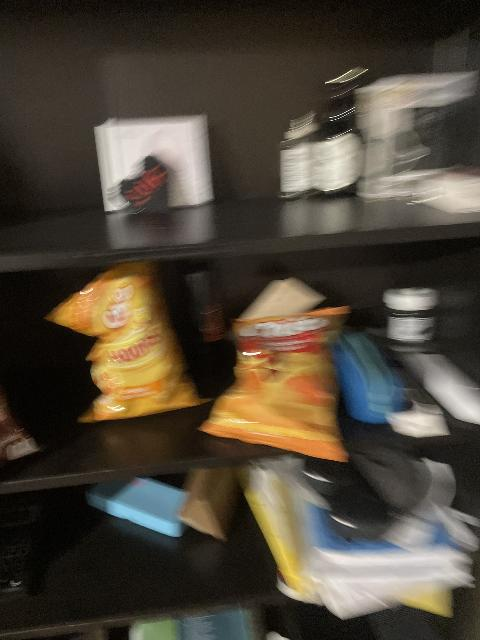Chio Cascaval 125g: (198, 302, 352, 463)
Chio Hula Hoops Cheese 70g: (42, 262, 211, 423)
